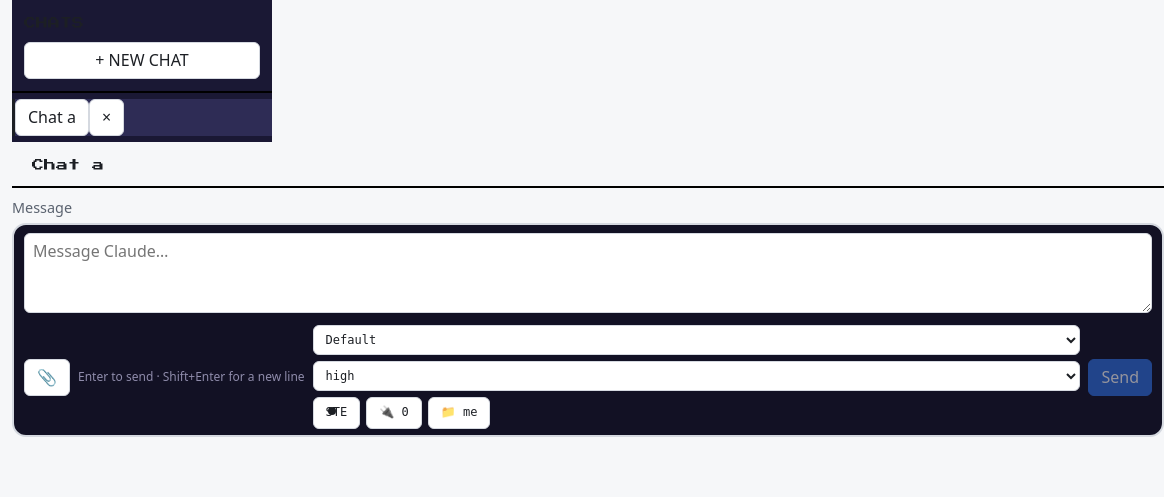
Test: a rejected settings change shows the server error
Select "Opus" in the dropdown named "Model". click: (697, 340)
box: x1=313 y1=325 x2=1080 y2=355
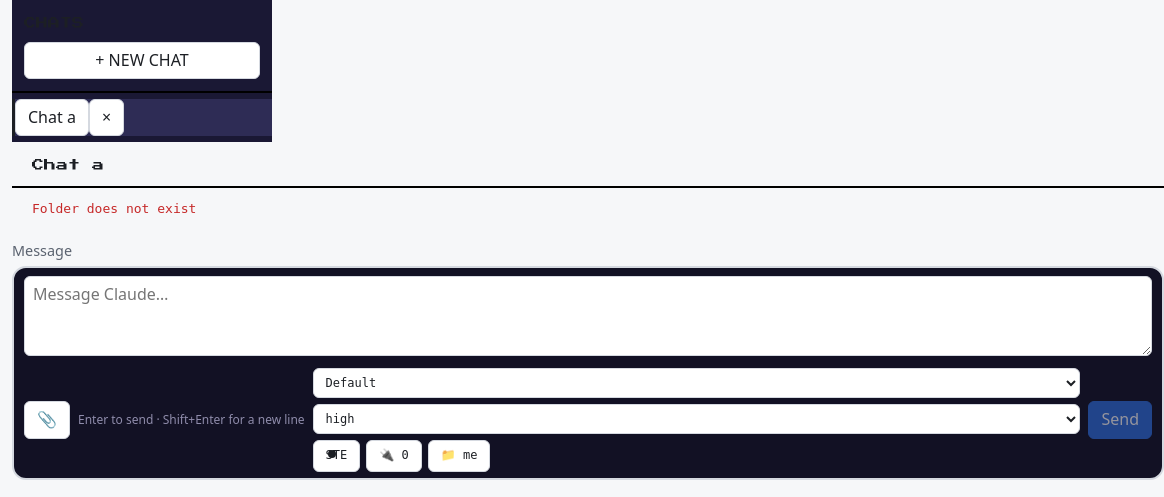
Expected: the text "Folder does not exist" is shown, x1=32 y1=201 x2=196 y2=216
